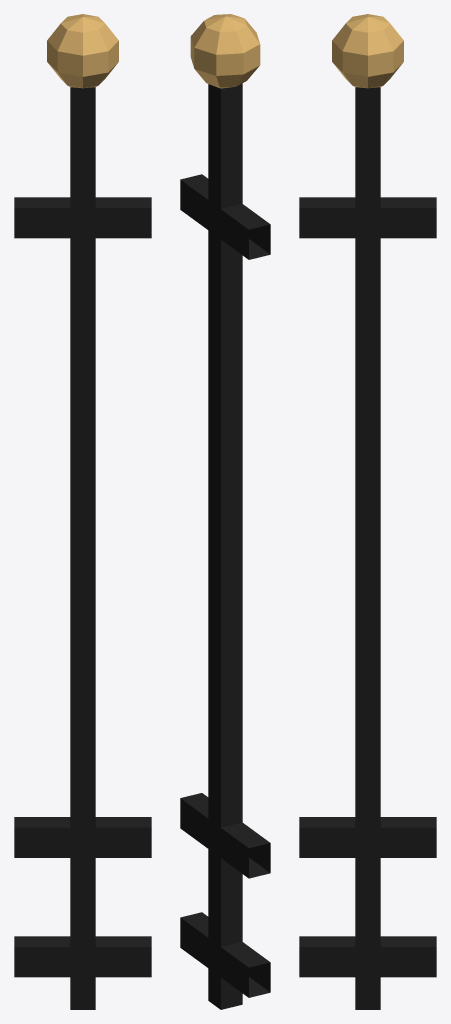
Rendered from P_J_FENCE POLE 2 .fbx.
3 renders of one model, left to right at view 1: azimuth 90°, elevation 25°; view 2: azimuth 210°, elevation 25°; view 3: azimuth 270°, elevation 25°, orthographic.
Parts seen in each view (by area): view 1: J_Fence_Pole_02; view 2: J_Fence_Pole_02; view 3: J_Fence_Pole_02.
Boxes of the visible parts, x1,y1,x2,y2 form: J_Fence_Pole_02: (14, 14, 151, 1009); J_Fence_Pole_02: (180, 14, 270, 1009); J_Fence_Pole_02: (299, 14, 436, 1009).
Size of the model in its own units: 17.45 by 264 by 33.29.
